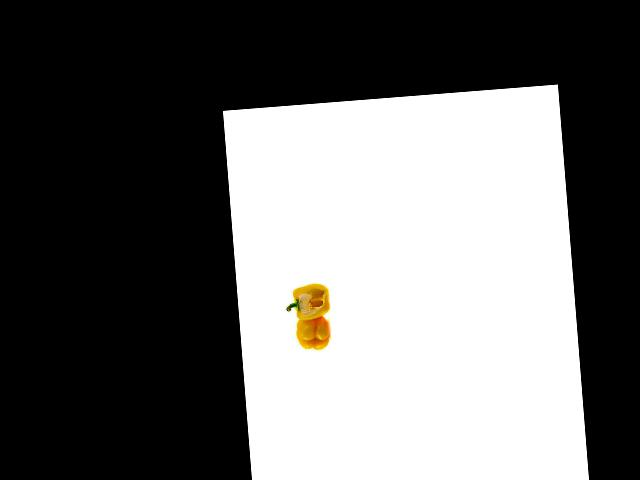bell_pepper: (283, 279, 339, 328)
